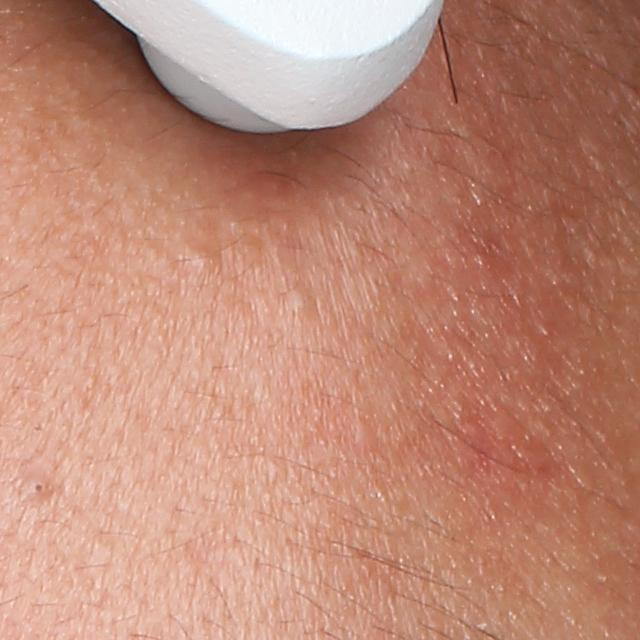comedo: (282, 286, 322, 326), (183, 243, 224, 279), (351, 419, 375, 443)
